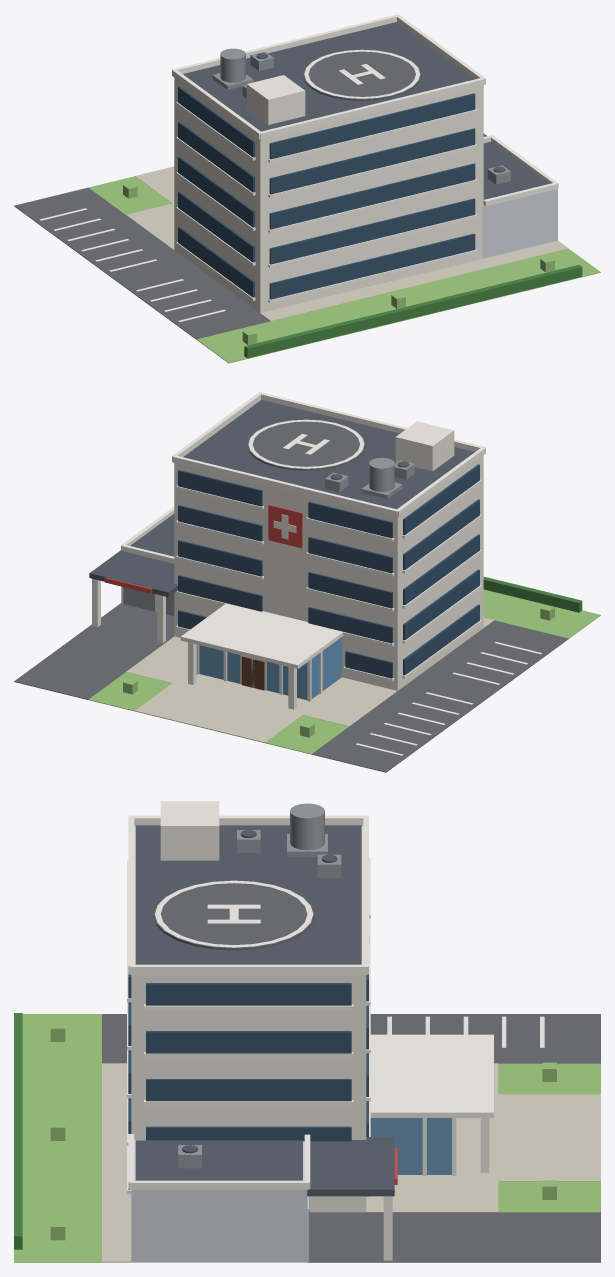
File: hospital.glb
3 views of the same model, one above another, from view 1: azimuth 30°, elevation 25°; view 2: azimuth 150°, elevation 25°; view 3: azimuth 270°, elevation 25° (orthographic). The views are drawn at different scales.
Parts seen in each view (by area): view 1: main_block, window_band (×10), car_park, roof (×2), rear_lawn, parapet (×6), hedge, helipad, emergency_wing, sill (×5), service_yard, plant_room (+4 smaller); view 2: main_block, window_band (×14), car_park, forecourt (×2), roof (×2), canopy (×2), emergency_apron, parapet (×4), helipad, lobby_glass, lawn (×2), rear_lawn (+7 smaller); view 3: roof (×2), main_block, rear_lawn, window_band (×4), forecourt (×2), canopy (×2), emergency_apron, emergency_wing, car_park, parapet (×5), helipad, lawn (×2) (+8 smaller).
Part boxes in pixels (x1,y1,x2,y2): main_block: (174, 78, 483, 312); window_band (×10): (178, 86, 475, 299); car_park: (14, 187, 270, 339); roof (×2): (183, 22, 548, 199); rear_lawn: (196, 248, 600, 363); parapet (×6): (172, 14, 558, 206); hedge: (244, 264, 582, 358); helipad: (303, 49, 421, 100); emergency_wing: (482, 189, 557, 258); sill (×5): (268, 108, 477, 302); service_yard: (260, 240, 568, 320); plant_room: (246, 75, 305, 124); main_block: (174, 455, 483, 690); window_band (×14): (178, 464, 479, 678); car_park: (311, 620, 568, 772); forecourt (×2): (126, 636, 397, 742); roof (×2): (130, 400, 474, 556); canopy (×2): (89, 550, 343, 668); emergency_apron: (14, 603, 174, 699); parapet (×4): (172, 392, 485, 517); helipad: (247, 419, 365, 470); lobby_glass: (199, 637, 341, 699); lawn (×2): (88, 672, 348, 754); rear_lawn: (483, 589, 600, 638); roof (×2): (135, 825, 361, 1180); main_block: (131, 826, 366, 1212); rear_lawn: (14, 1014, 101, 1262); window_band (×4): (146, 983, 351, 1141); forecourt (×2): (366, 1063, 600, 1212); canopy (×2): (306, 1034, 493, 1196); emergency_apron: (307, 1212, 600, 1262); emergency_wing: (131, 1140, 307, 1262); car_park: (102, 1014, 600, 1063); parapet (×5): (128, 815, 368, 1189); helipad: (153, 880, 314, 950); lawn (×2): (498, 1063, 600, 1212).
Bounding box in the file's own units: 40 × 20.92 × 40.
